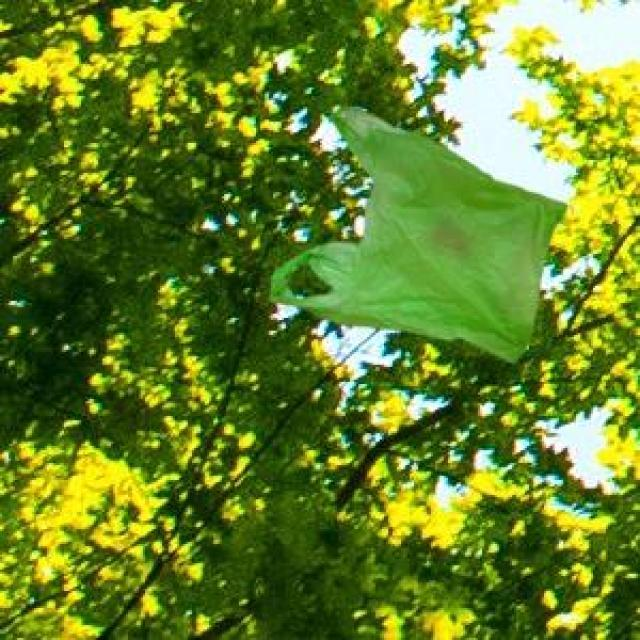Plastic_Bag: (268, 103, 564, 360)
